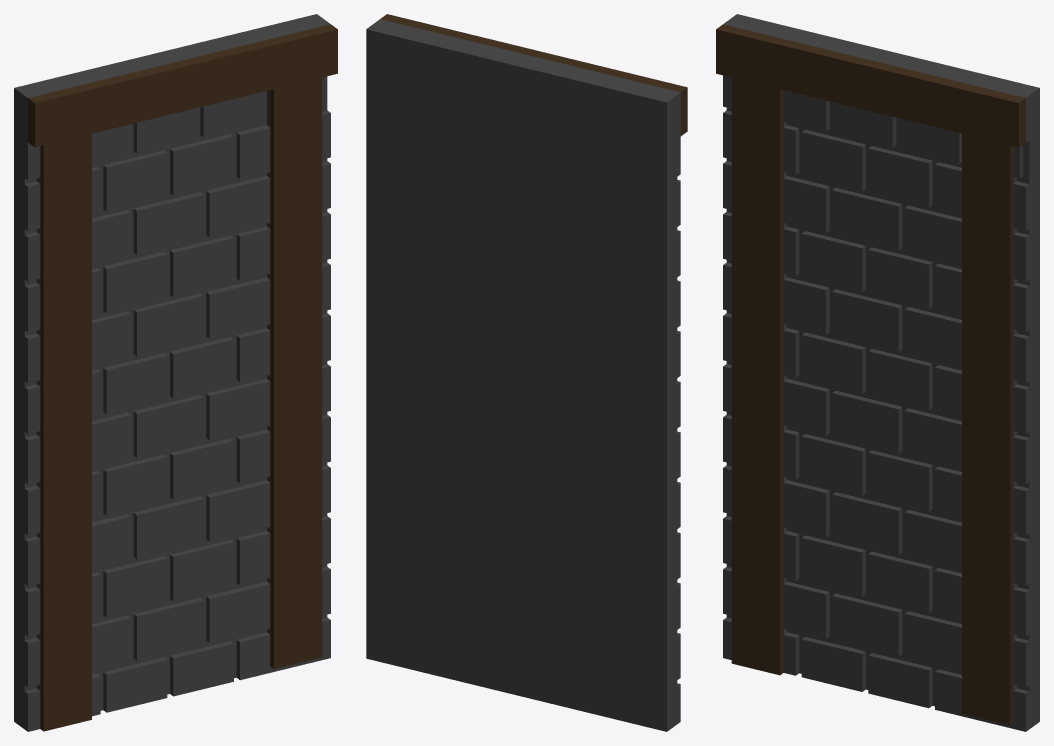
The model's file is starter wall with bracing.obj.
3 renders of one model, left to right at view 1: azimuth 30°, elevation 25°; view 2: azimuth 150°, elevation 25°; view 3: azimuth 330°, elevation 25°, orthographic.
Parts seen in each view (by area): view 1: starter wall with bracing; view 2: starter wall with bracing; view 3: starter wall with bracing.
Boxes of the visible parts, x1,y1,x2,y2 form: starter wall with bracing: [14, 14, 337, 731]; starter wall with bracing: [366, 14, 687, 731]; starter wall with bracing: [716, 14, 1039, 731].
Bounding box in the file's own units: 50 × 100 × 6.
Materials: 1 (1 with a texture image).
